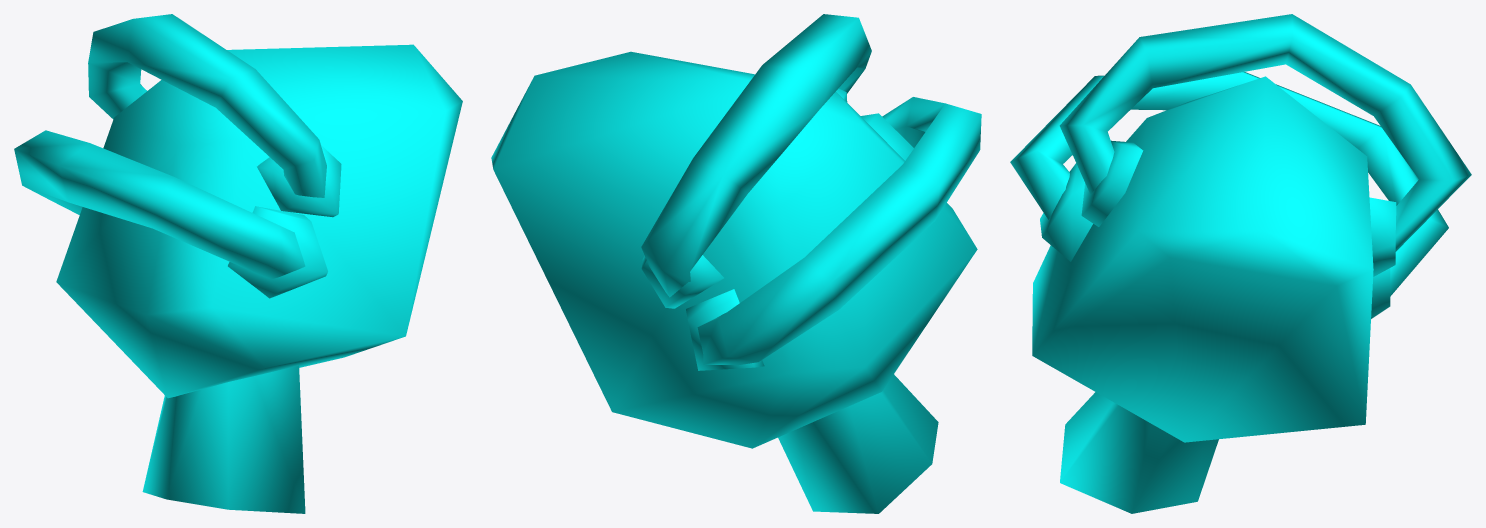
Rendered from arm_r.obj.
3 views of the same model, side by side, from view 1: azimuth 30°, elevation 25°; view 2: azimuth 150°, elevation 25°; view 3: azimuth 270°, elevation 25° (orthographic). The views are drawn at different scales.
Parts seen in each view (by area): view 1: arm_r:transformblitzcrank_transformblitzcrank; view 2: arm_r:transformblitzcrank_transformblitzcrank; view 3: arm_r:transformblitzcrank_transformblitzcrank.
Boxes of the visible parts, x1,y1,x2,y2 form: arm_r:transformblitzcrank_transformblitzcrank: (14,14,462,513); arm_r:transformblitzcrank_transformblitzcrank: (491,14,981,513); arm_r:transformblitzcrank_transformblitzcrank: (1010,14,1471,513).
Size of the model in its own units: 4.09 by 4.79 by 4.28.
